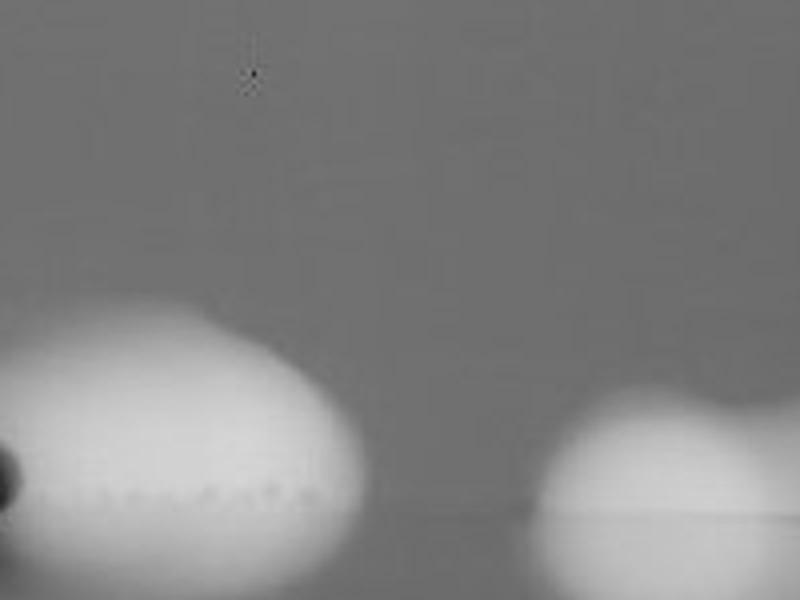defect: (4, 438, 23, 510), (244, 65, 264, 85)
